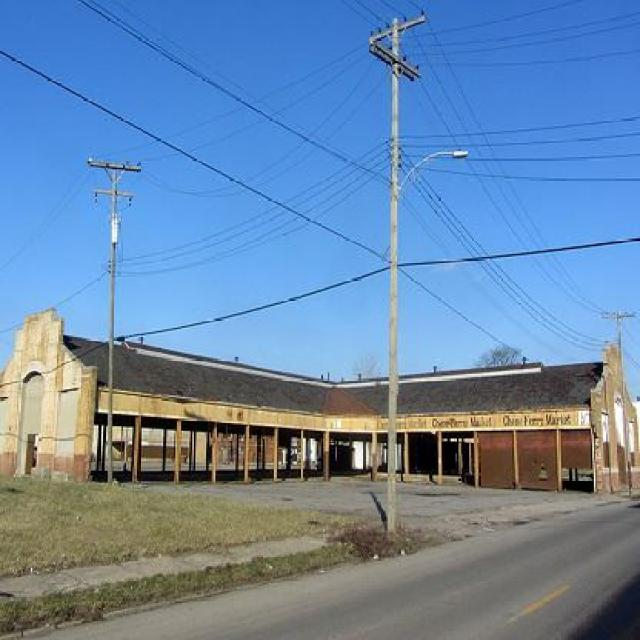pole: (352, 11, 434, 526), (77, 146, 140, 483)
